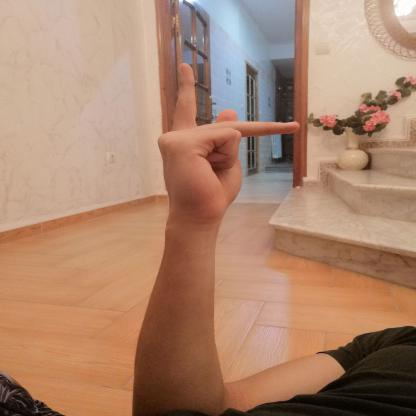DHAA: (145, 57, 306, 226)
